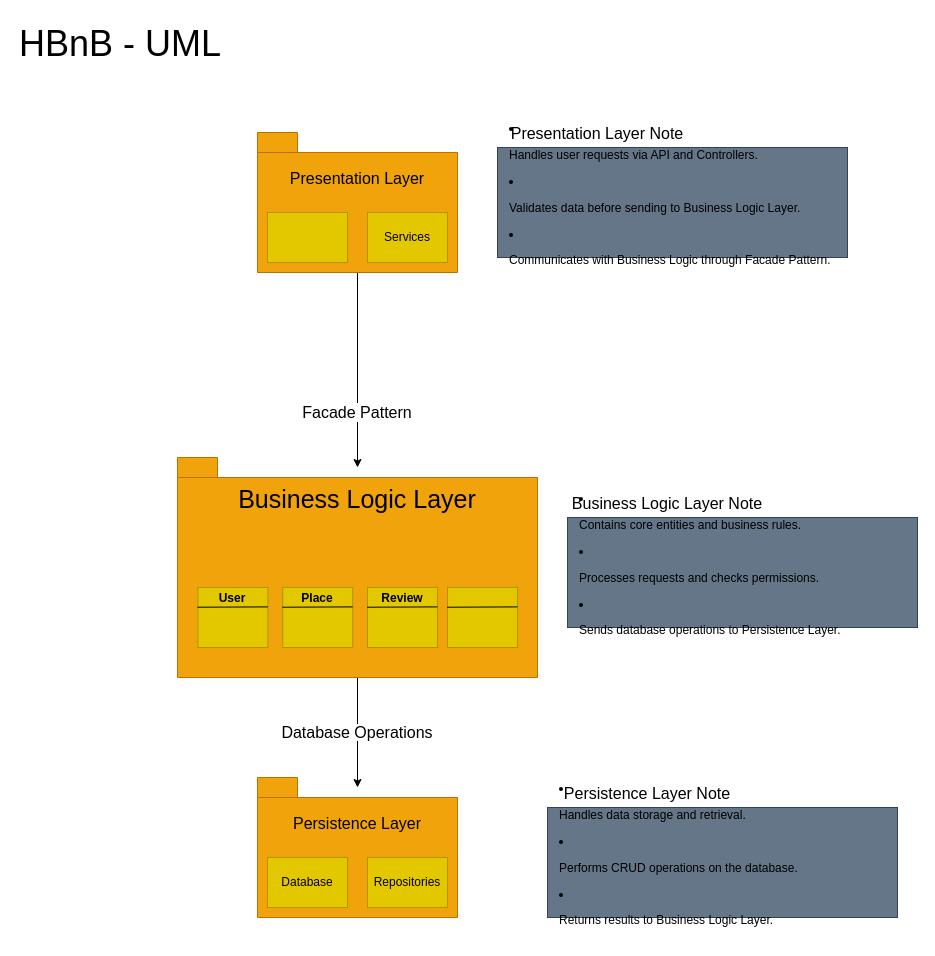
This 935x956 diagram has some shape labels left out. The centre of each missing label's shape, as x and y in pixels:
"Amenity" goes at point 482,617.
"API" goes at point 307,237.
